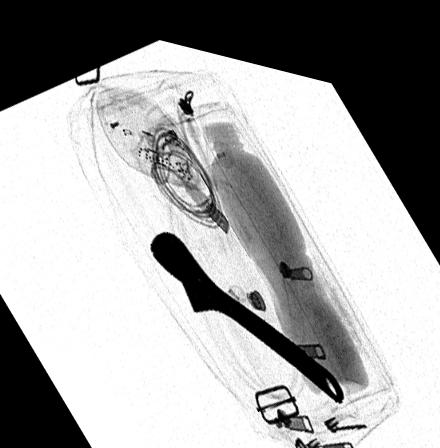Wrench: (147, 220, 345, 386)
